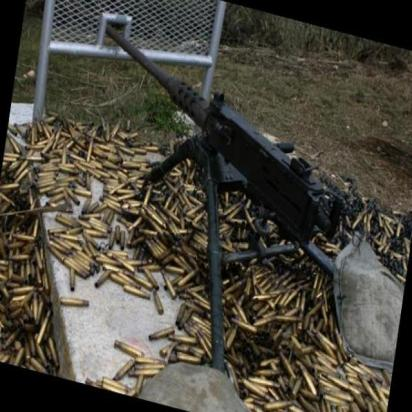Gun: (81, 21, 374, 266)
